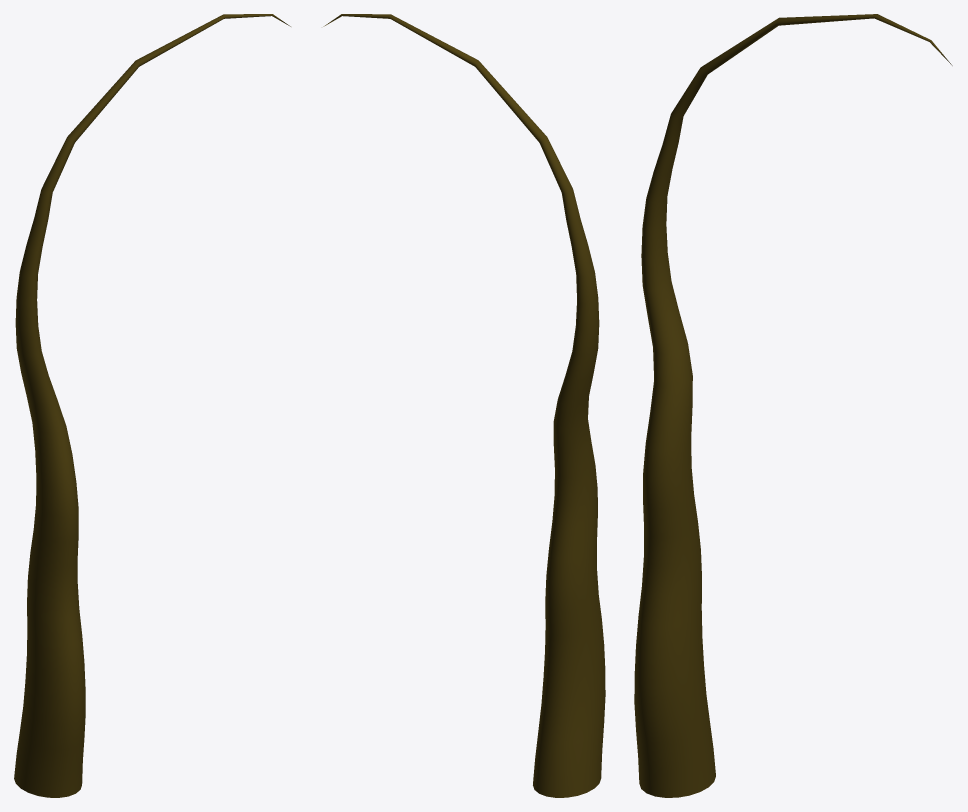
The model's file is Plant 2 Stage 0.fbx.
3 views of the same model, side by side, from view 1: azimuth 30°, elevation 25°; view 2: azimuth 150°, elevation 25°; view 3: azimuth 330°, elevation 25° (orthographic). The views are drawn at different scales.
Parts seen in each view (by area): view 1: pCone1; view 2: pCone1; view 3: pCone1.
Boxes of the visible parts, x1=… form: pCone1: x1=14, y1=14, x2=290, y2=797; pCone1: x1=323, y1=14, x2=605, y2=797; pCone1: x1=634, y1=14, x2=952, y2=797.
Size of the model in its own units: 4.01 by 10.07 by 1.18.
